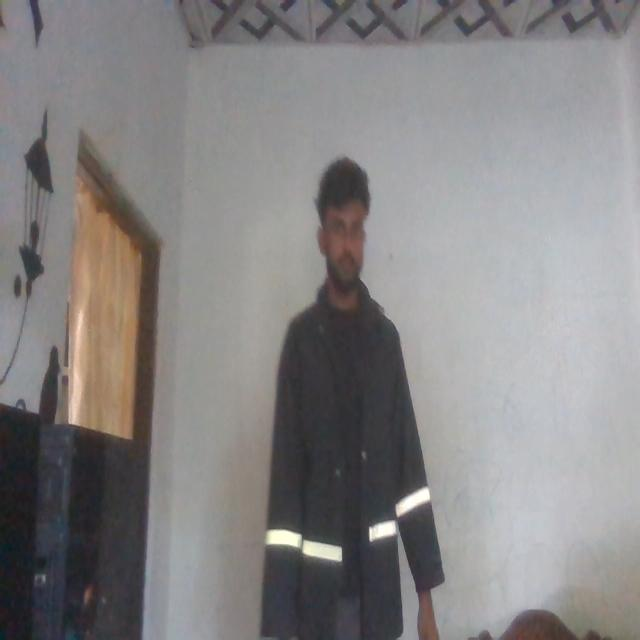Jacket_Wearer: (261, 267, 439, 640)
Person: (257, 154, 442, 640)
